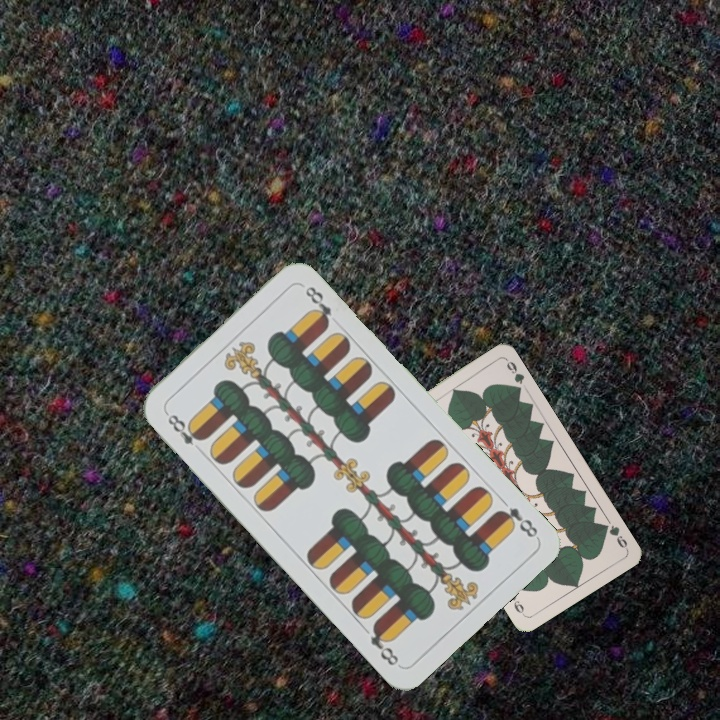E8: (161, 408, 207, 449), (492, 503, 541, 541)
G9: (598, 520, 630, 552)
